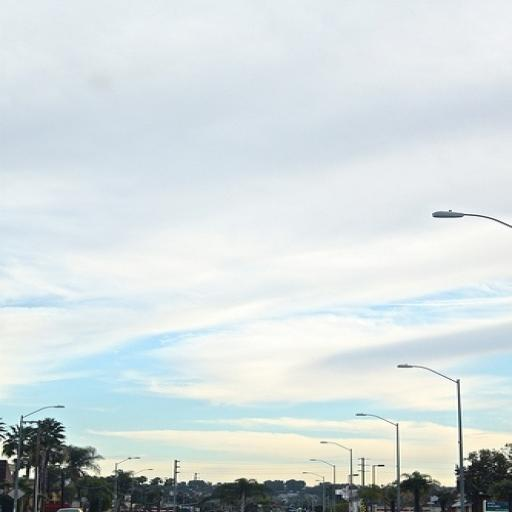off street light: (426, 209, 512, 260), (396, 358, 470, 414)
